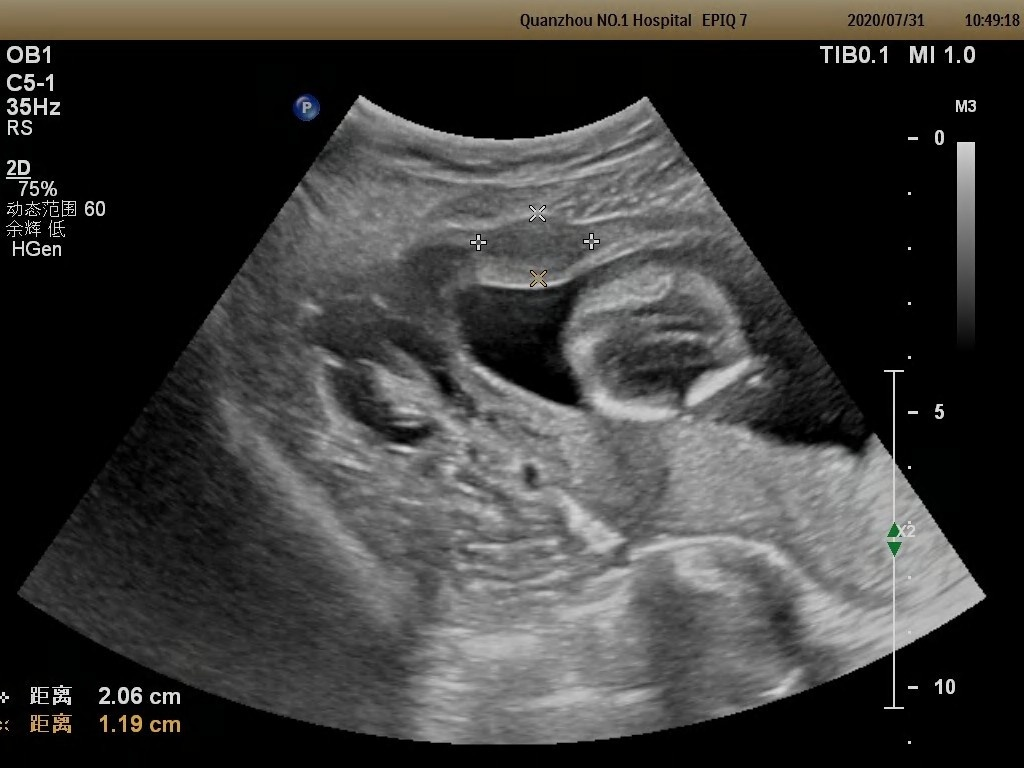肌瘤: (480, 218, 594, 271)
